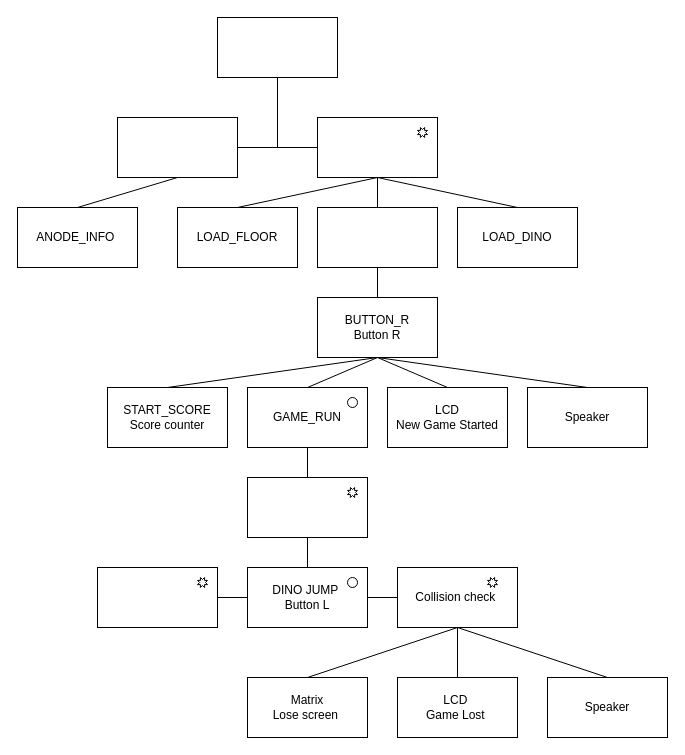
Some shapes in this 685 by 755 pixel diagram are drawn without their labels. Each missing label, with the centre of its shape:
GAME_INIT: point (377, 147)
Hardware Initiation (HW_INIT): point (277, 47)
LCD Press R to start: point (377, 237)
MAIN_INIT: point (177, 147)
Obstacle loader: point (307, 507)
Score update: point (157, 597)
